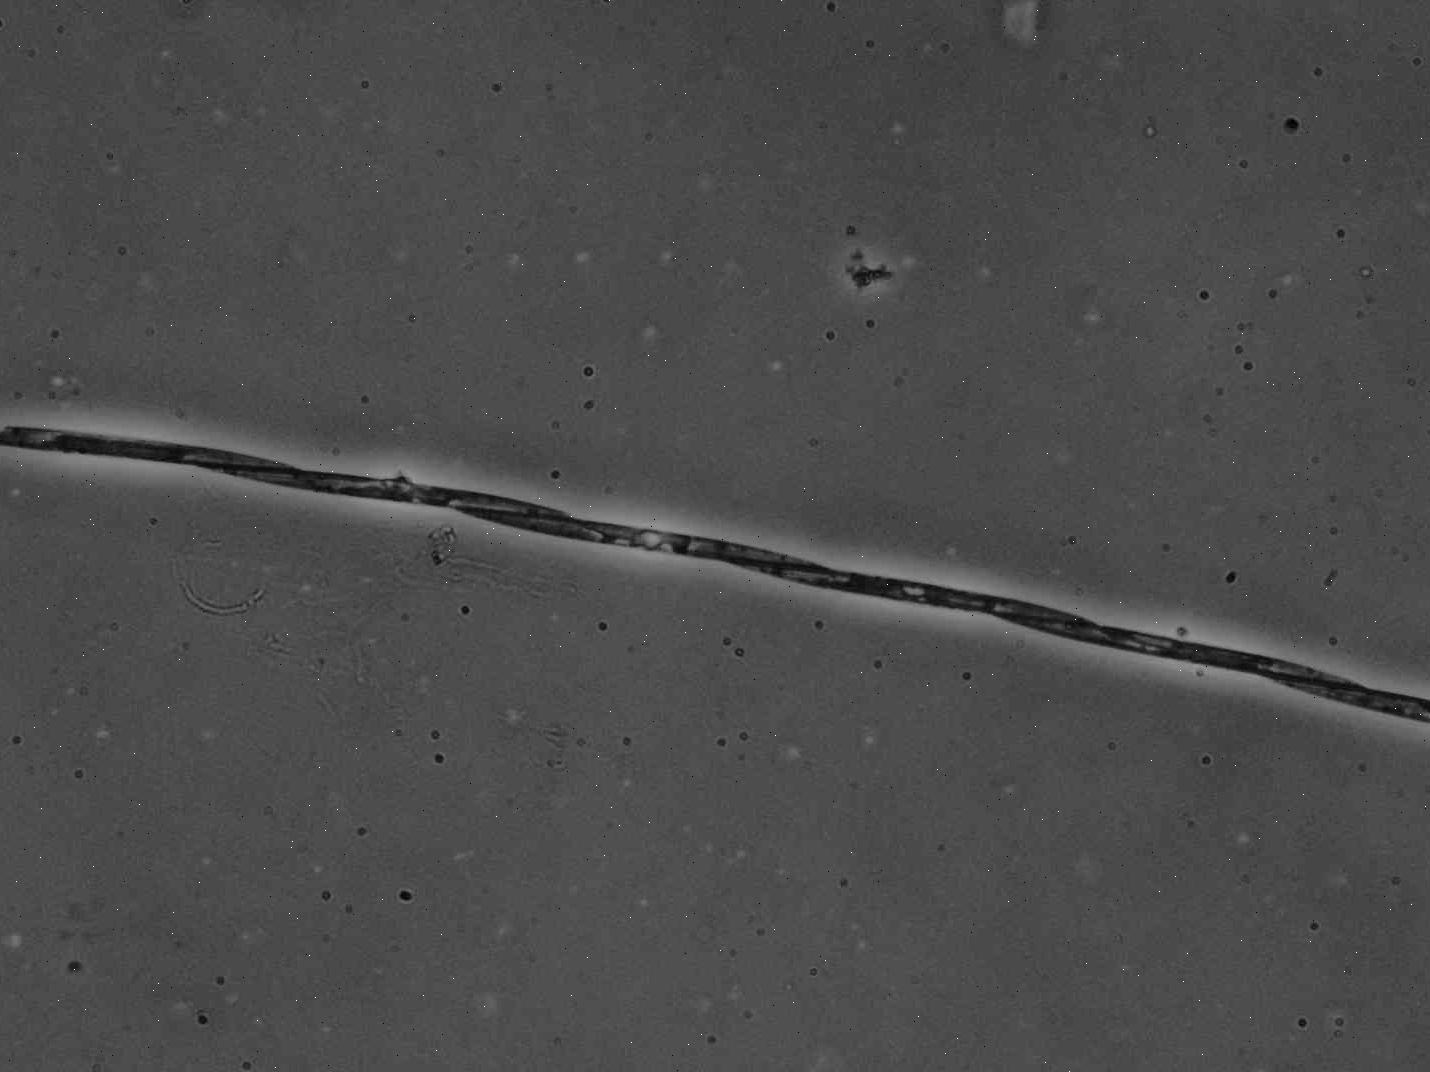pseudo_nitzschia: (0, 426, 1430, 725)
